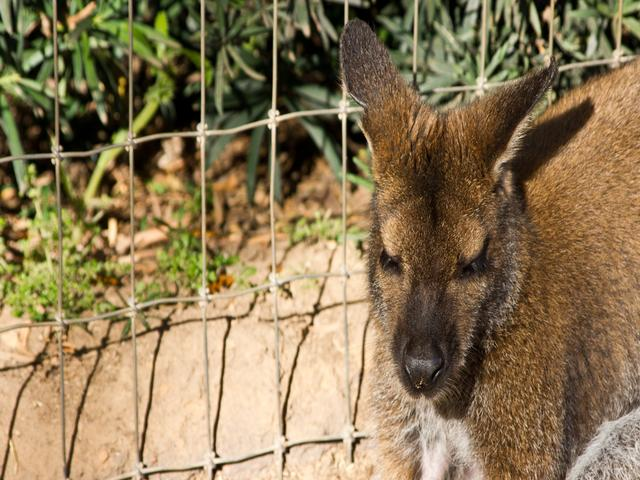kangaroo: (307, 11, 633, 479)
